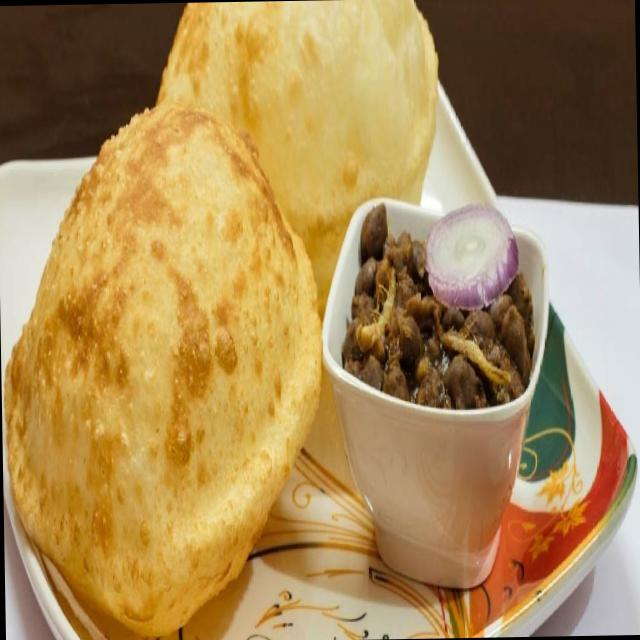Bhatura: (0, 105, 324, 636), (135, 0, 442, 316)
